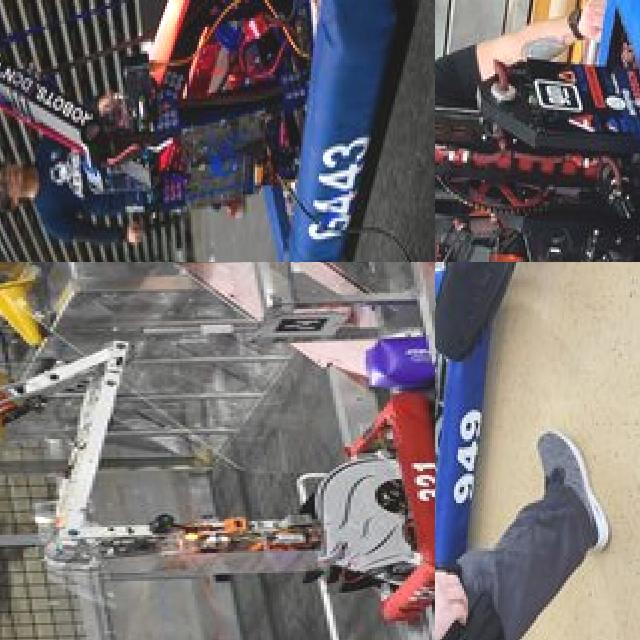FRC-Robots: (0, 275, 435, 640), (0, 0, 421, 262), (435, 0, 640, 262), (435, 262, 515, 637)
